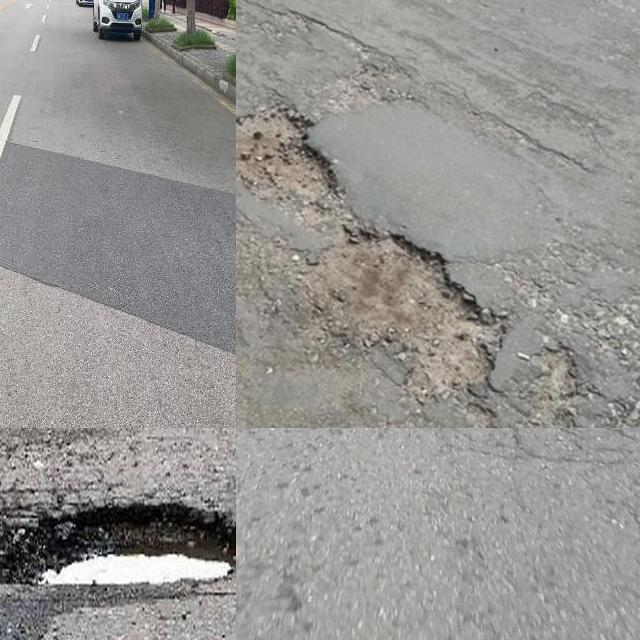Lubang: (330, 230, 502, 406), (0, 488, 236, 589), (236, 115, 350, 203)
Sambungan: (0, 136, 236, 356)
